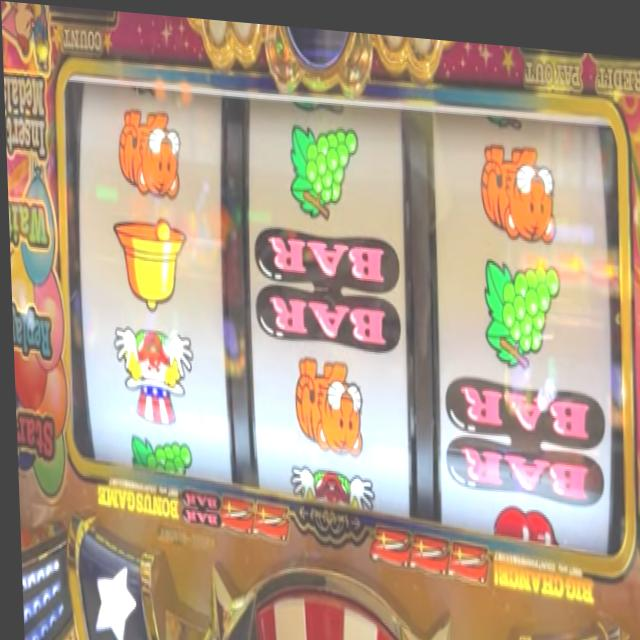bar: (440, 366, 603, 495), (250, 218, 402, 344), (177, 482, 216, 527)
cherry: (487, 495, 554, 536)
clown: (109, 323, 194, 428), (287, 453, 372, 507)
display: (61, 67, 626, 550)
grape: (479, 249, 559, 362), (286, 117, 359, 216), (121, 429, 188, 474)
tiger: (476, 131, 555, 236), (289, 348, 361, 452), (113, 103, 179, 198)
z: (366, 515, 407, 565), (444, 531, 485, 579), (407, 522, 445, 571), (249, 496, 284, 539), (216, 493, 250, 531)
